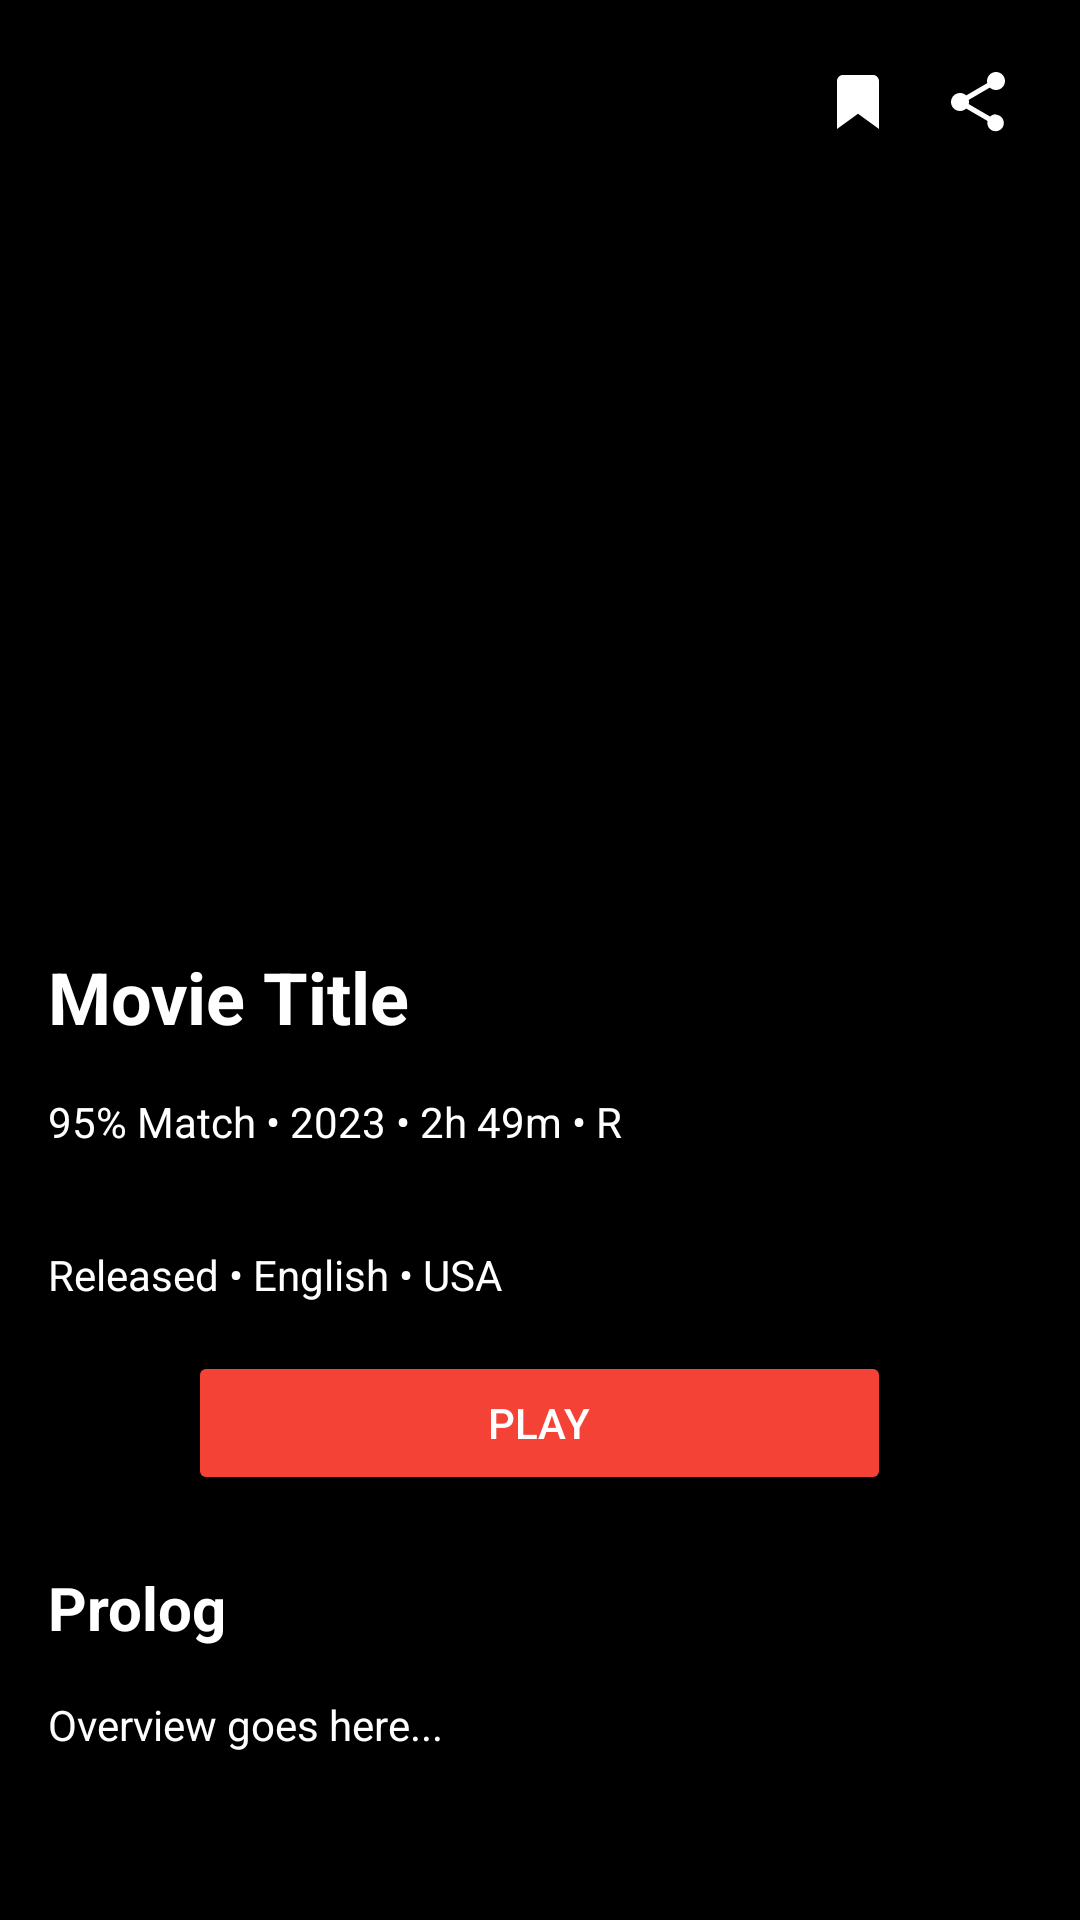

Icon click points for this 1080px x 1920px phone screenshot, format (x,y):
Save Button: (858,102)
Share Button: (978,102)
